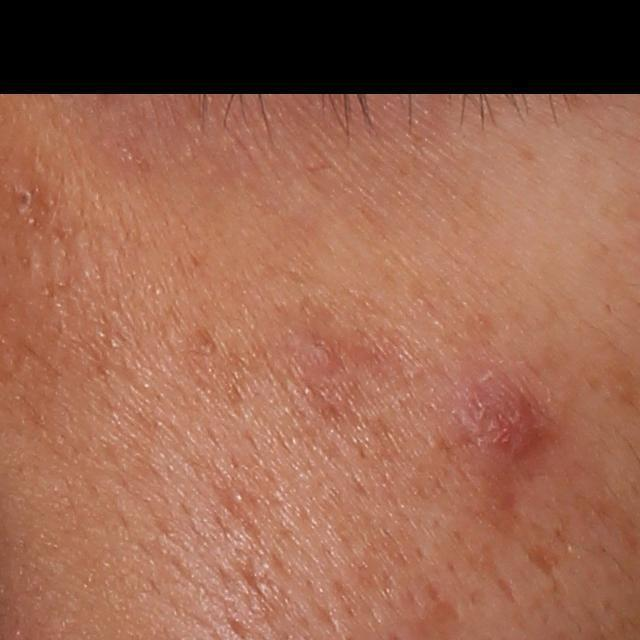comedo: (8, 182, 39, 218)
papule: (469, 377, 549, 462)
